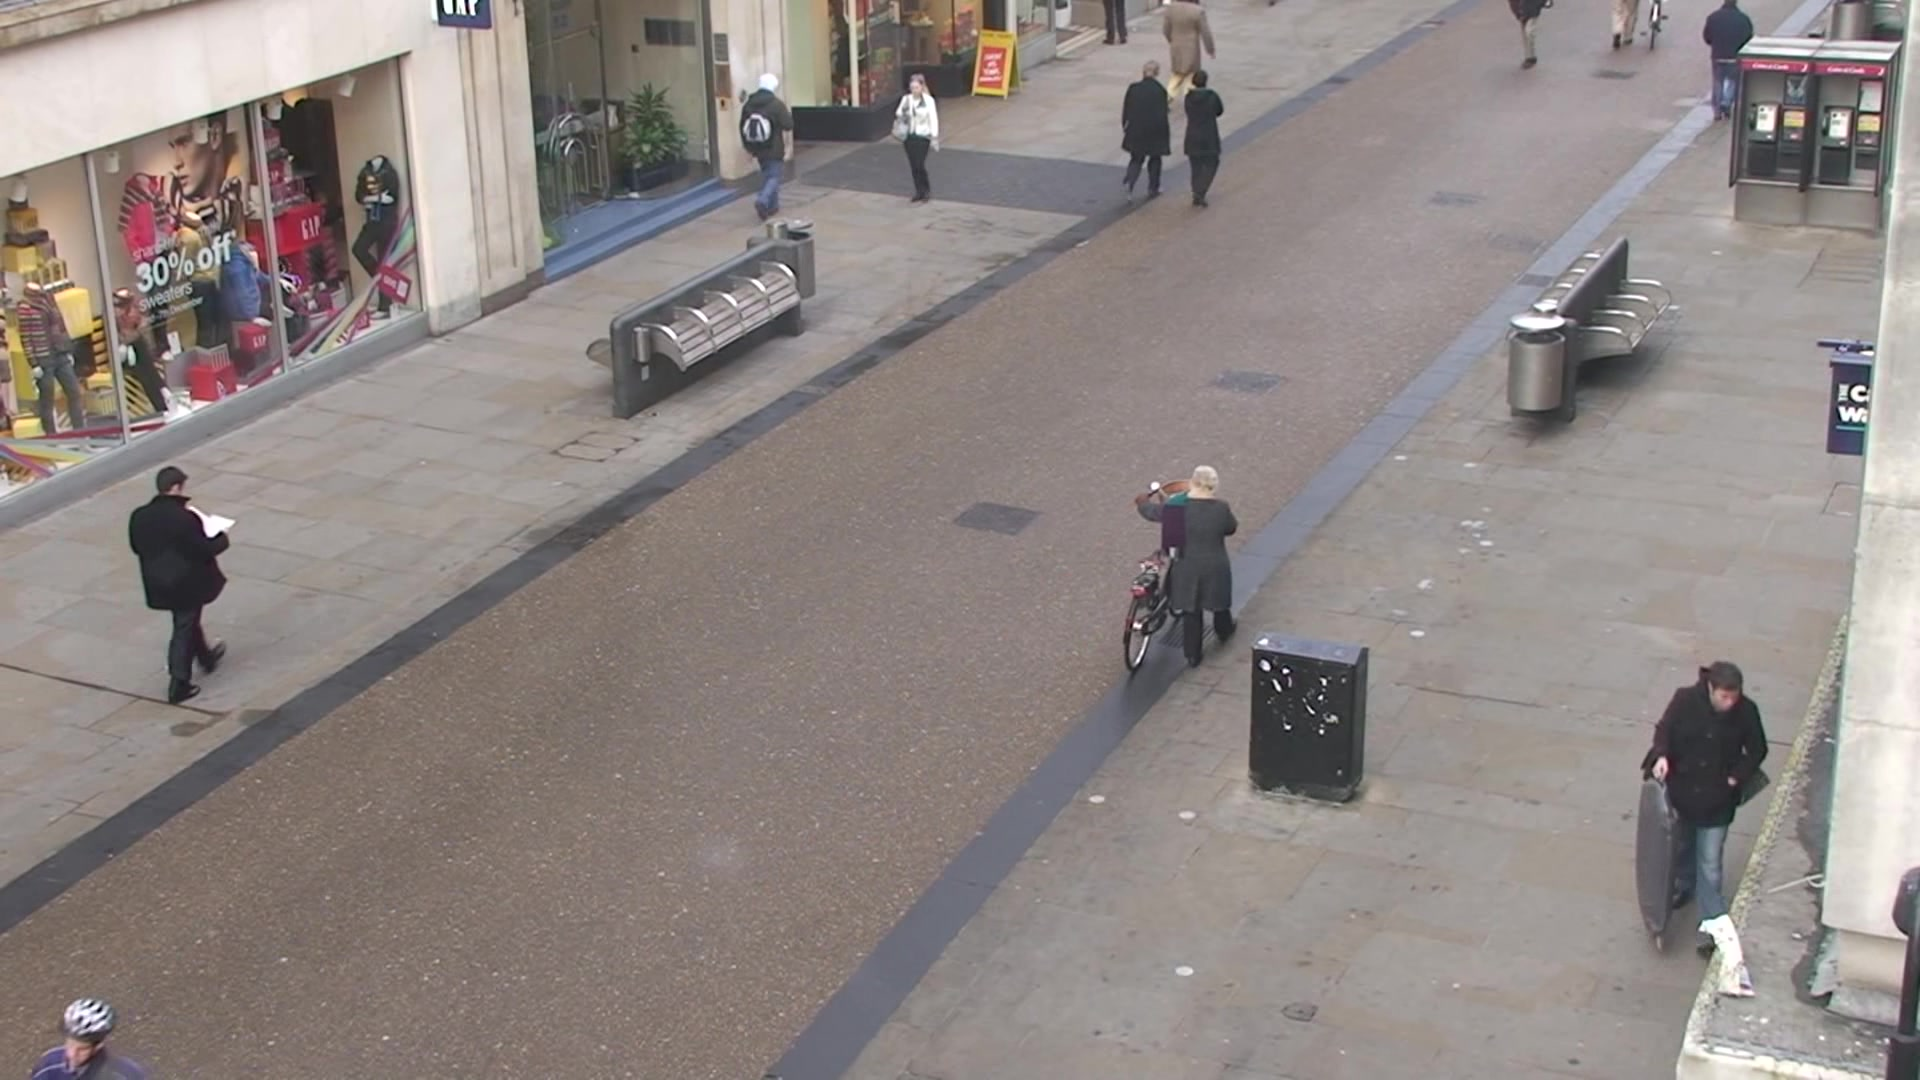person: (1643, 663, 1769, 958), (130, 465, 234, 701), (1137, 463, 1238, 667), (738, 70, 796, 217), (1121, 61, 1171, 201), (891, 74, 942, 203), (1182, 70, 1223, 208)
